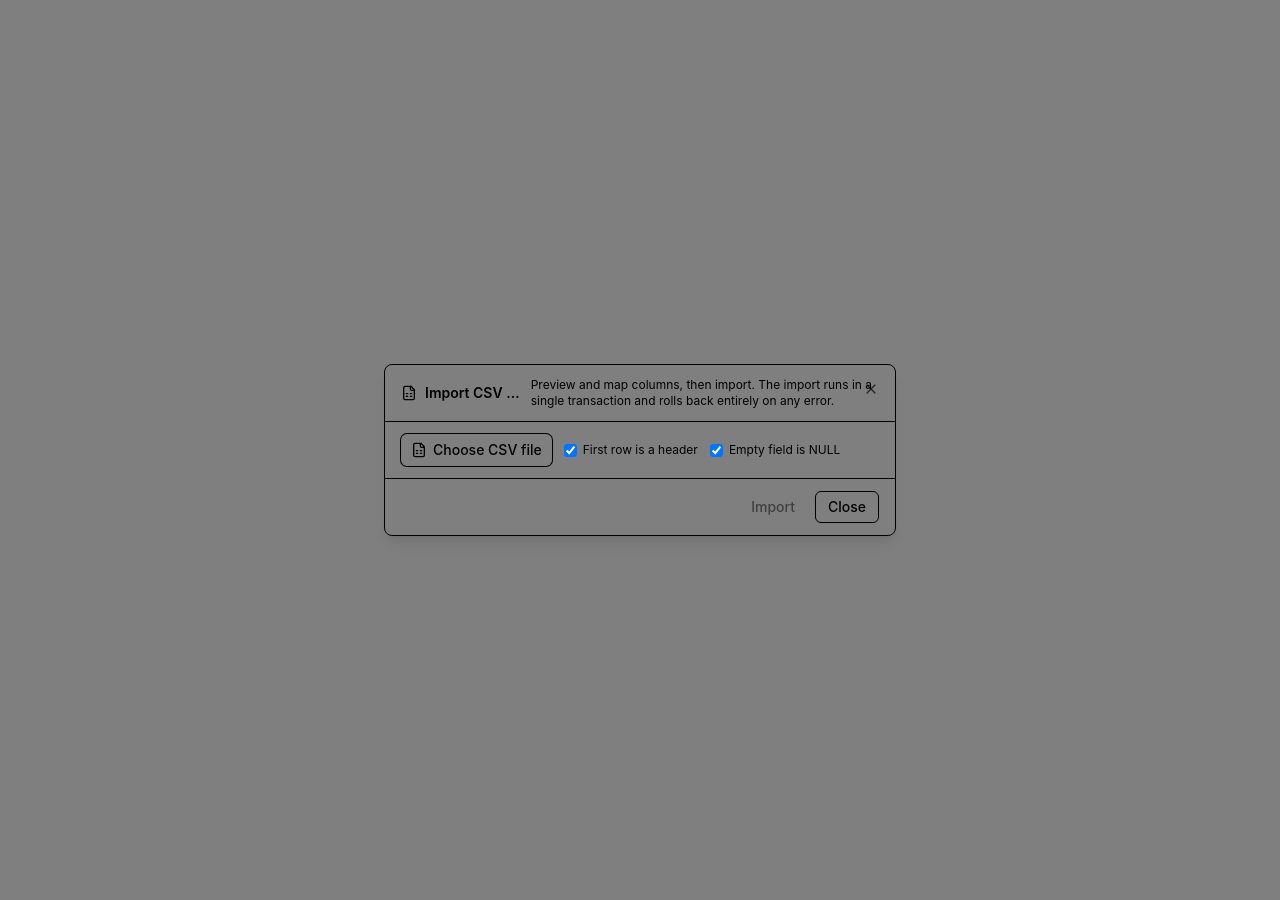
Test: ImportCsvDialog › surfaces a commit failure as an alert without a success message
Click the button with aria-label "choose a csv file" at (476, 450), box [401,434,552,466]
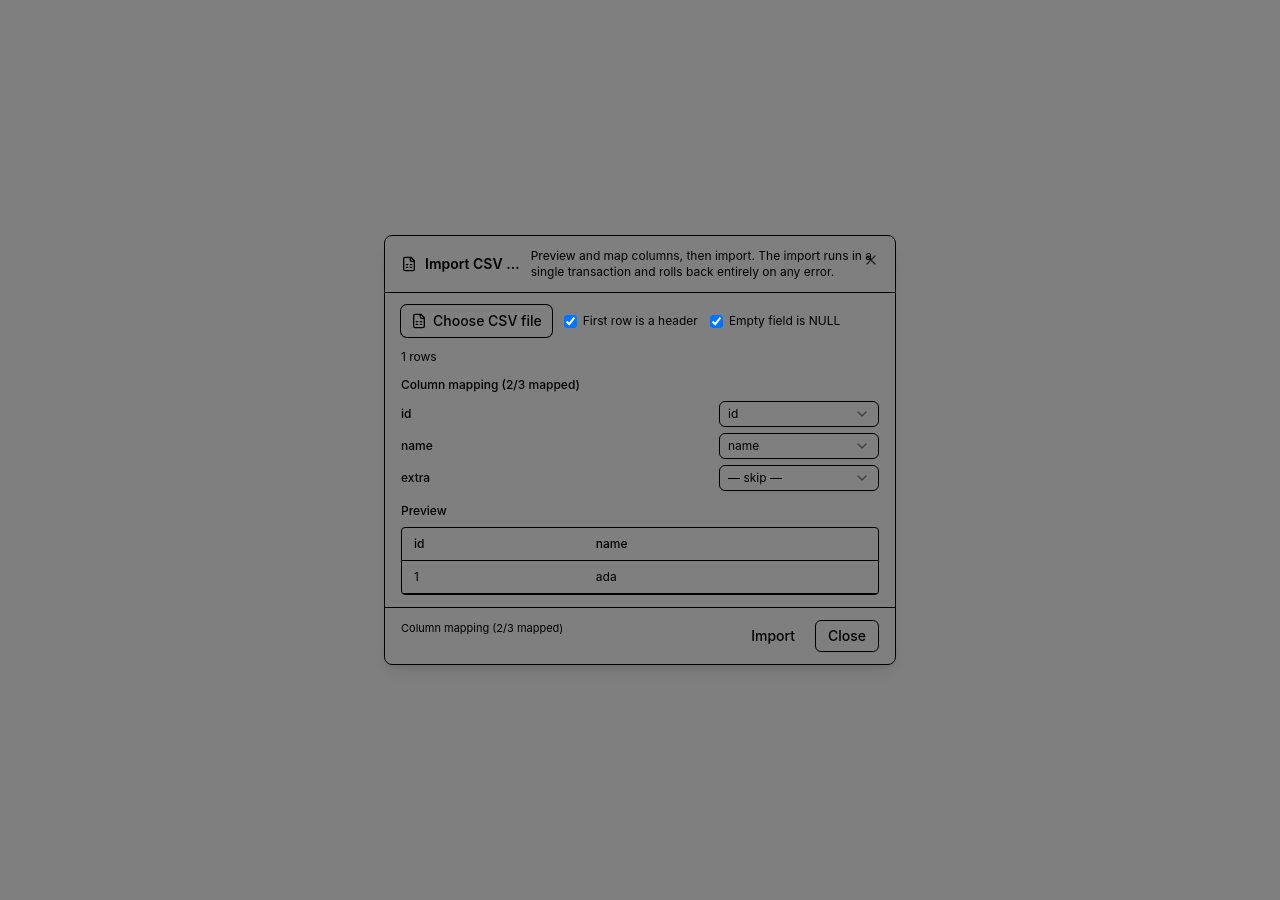
Result: the text "1 rows" is shown at [401,349,437,365]
Click the button "Import" at (773, 636), box [739,620,807,652]
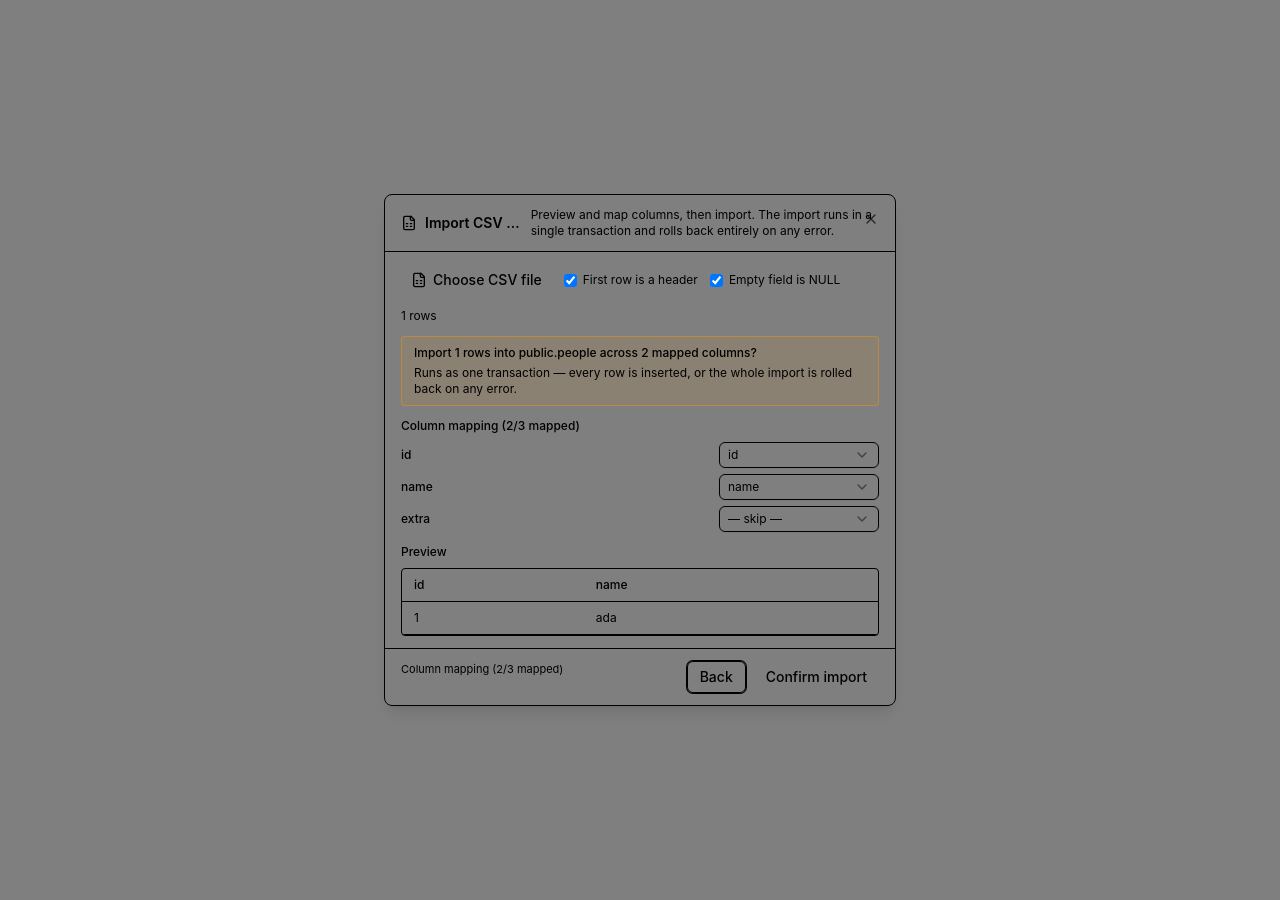
Click the button "Confirm import" at (816, 677), box [754,661,879,693]
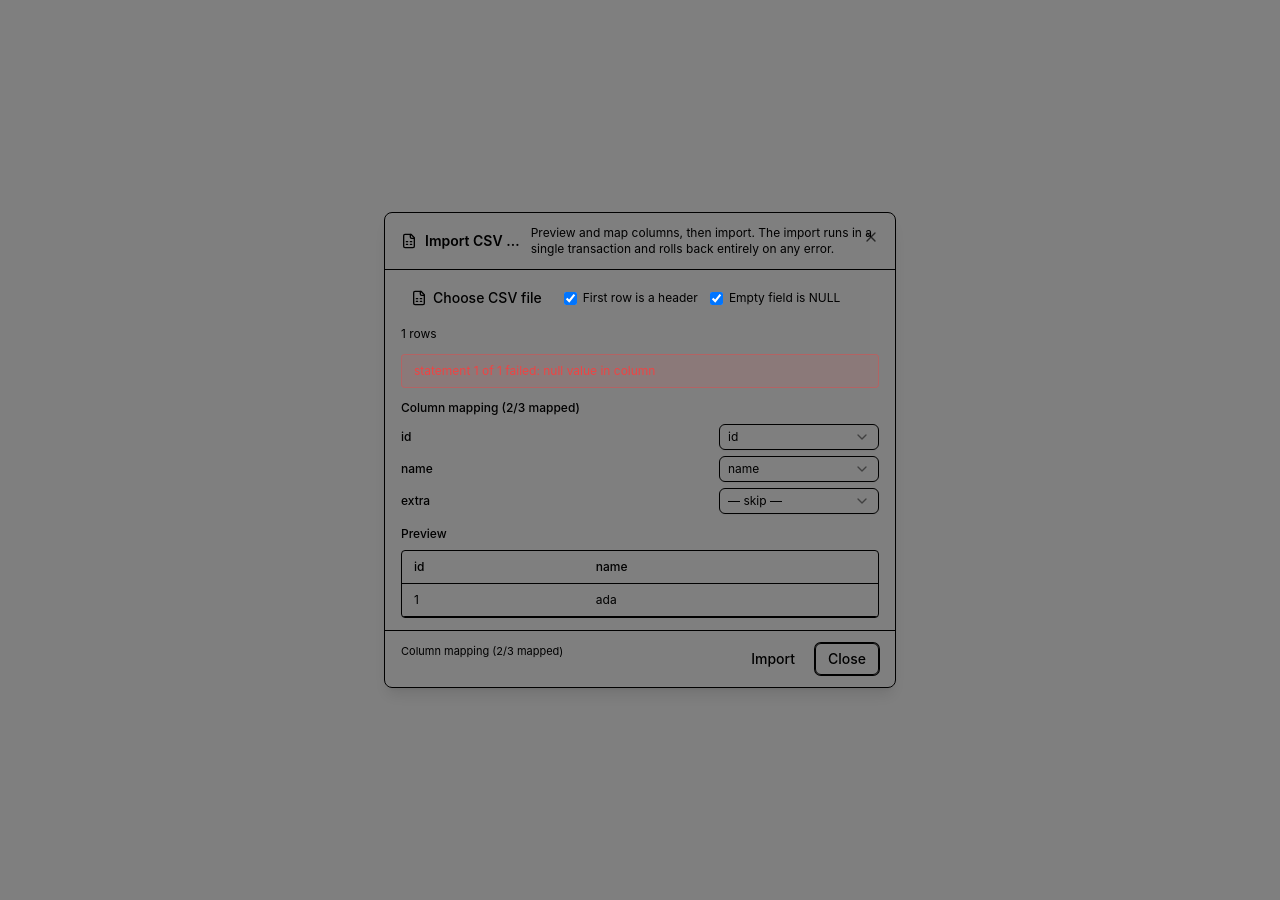
Result: the text "statement 1 of 1 failed: null value in column" is shown at [401,354,879,388]
